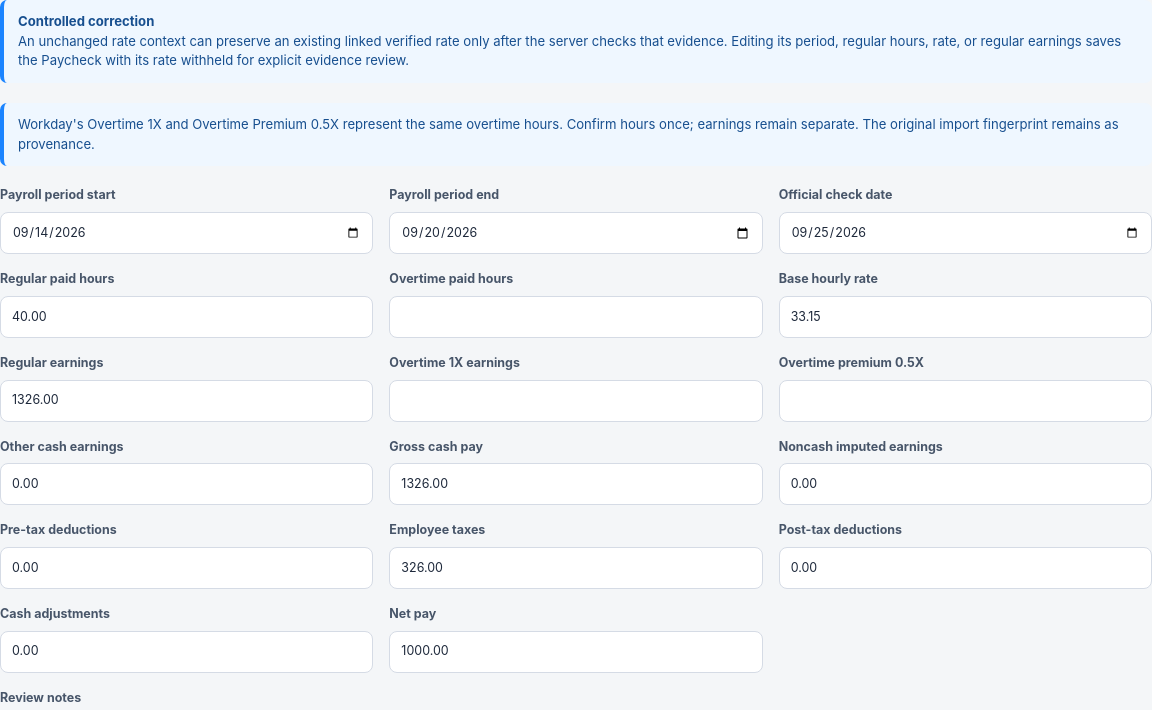
Paycheck extraction review › warns when a correction changes rate-relevant context
The width and height of the screenshot is (1152, 710).
Expected: the text "Rate review required" is not shown
In the date field labelled "Payroll period start": (187, 233) [0, 212, 373, 254], type "2026-09-15"
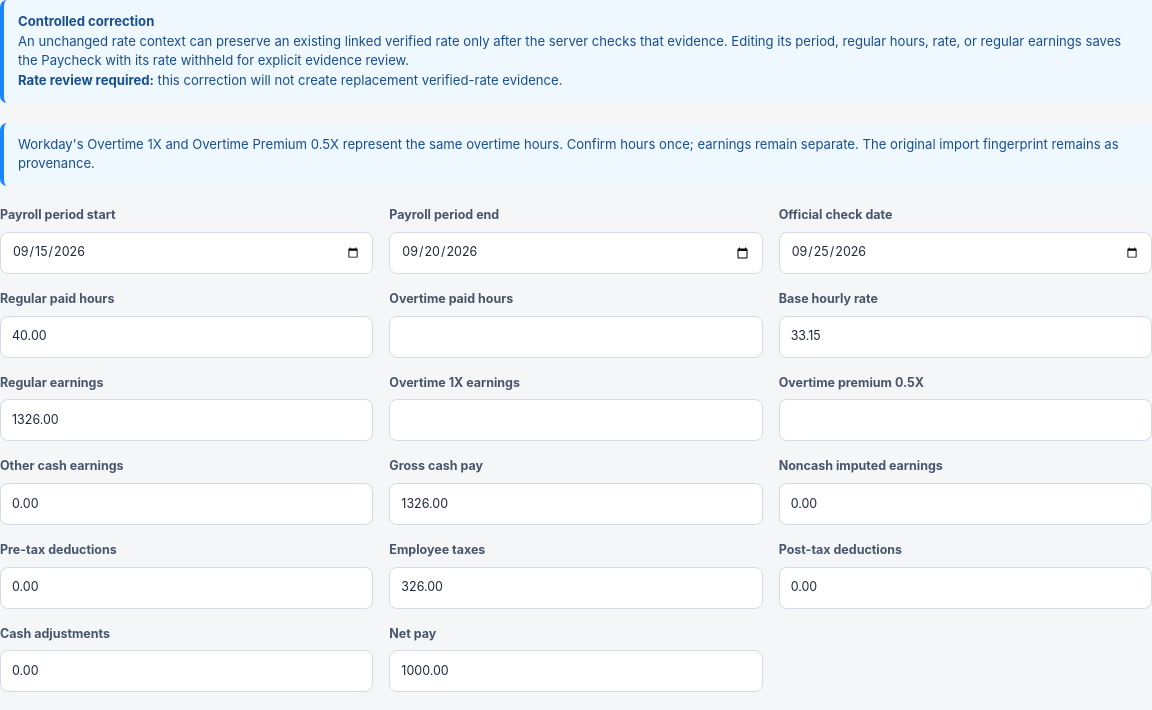
Expected: the text "Rate review required:" is shown, [18, 72, 154, 88]
